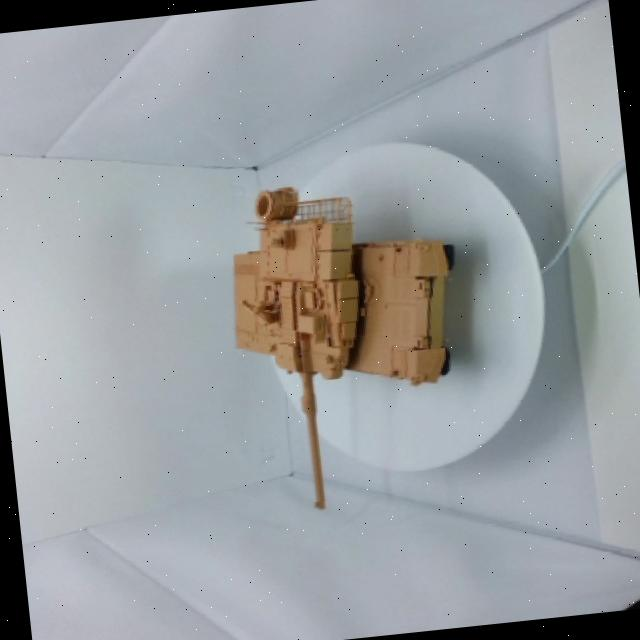korea tank: (176, 134, 510, 541)
